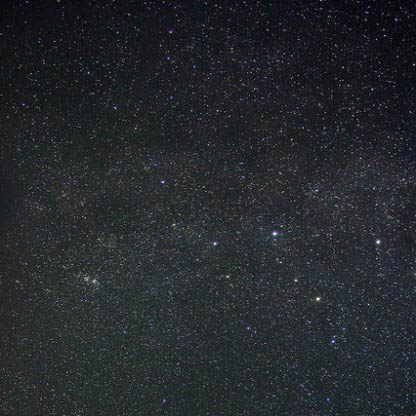Cassiopeia: (289, 271, 324, 307), (259, 224, 287, 251), (207, 237, 230, 263), (365, 230, 386, 253), (154, 173, 171, 193)
